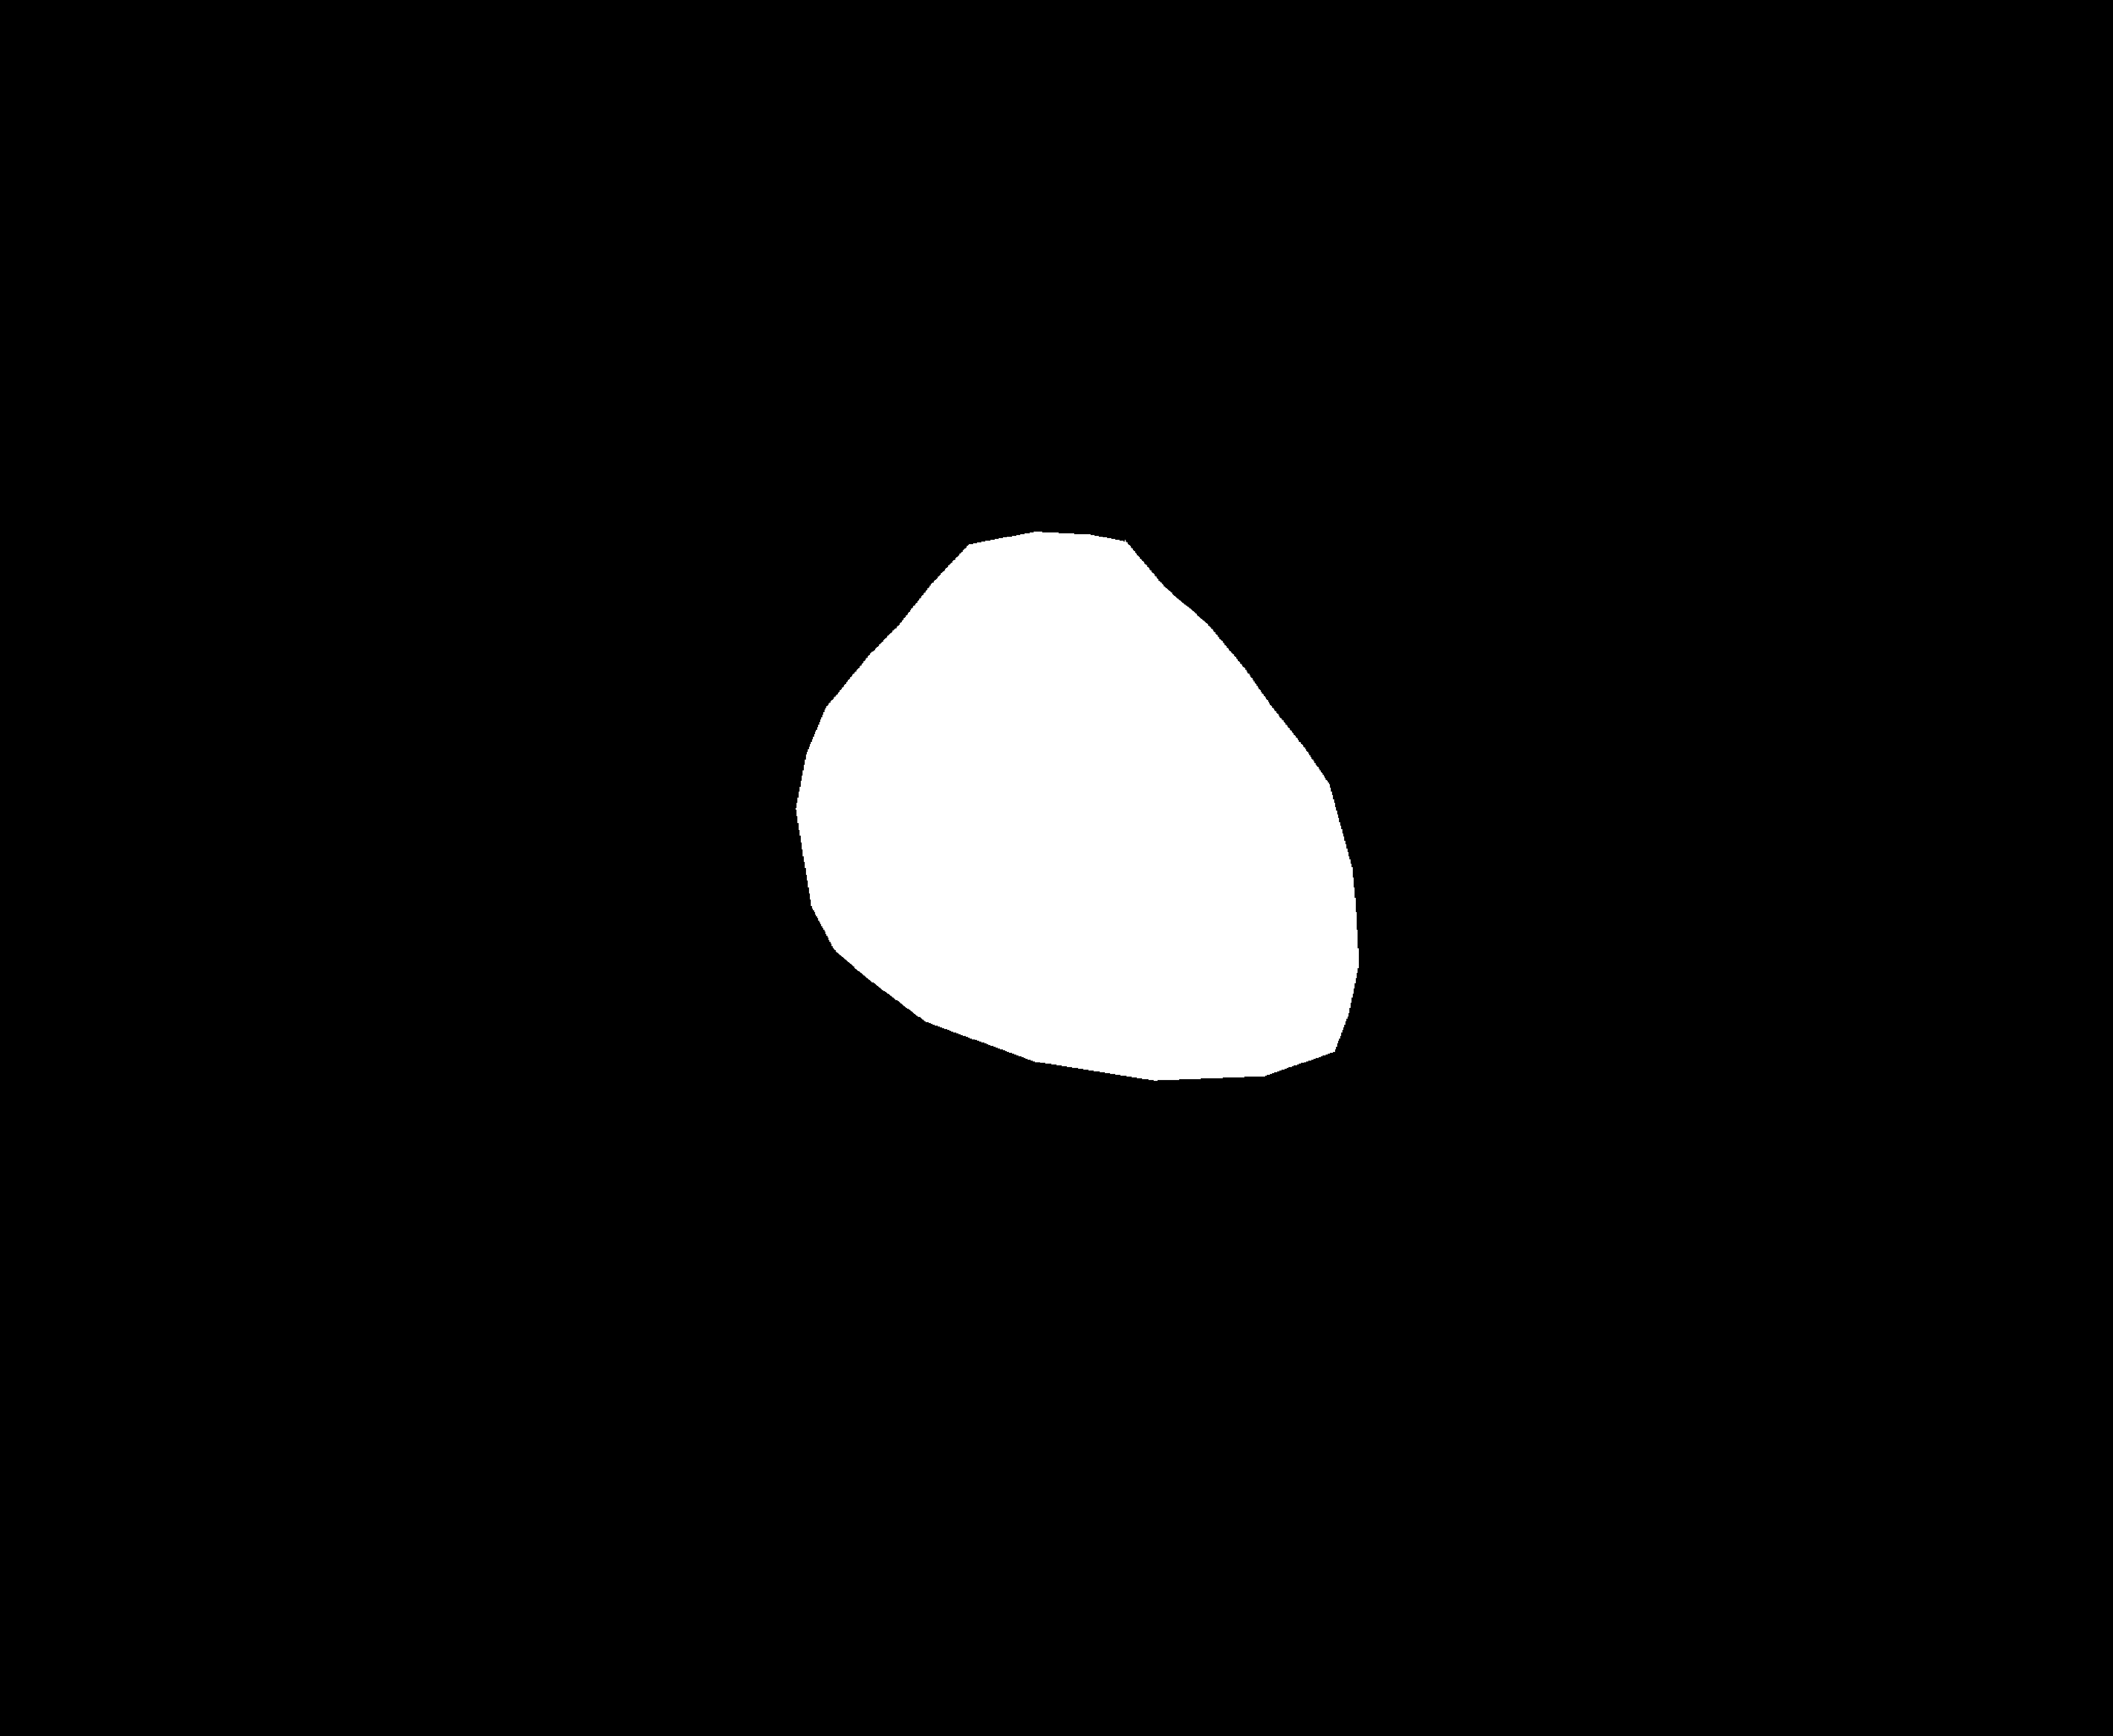heart: (791, 644, 1355, 1109)
left_lung: (453, 214, 965, 1043)
right_lung: (1065, 232, 1515, 1136)
